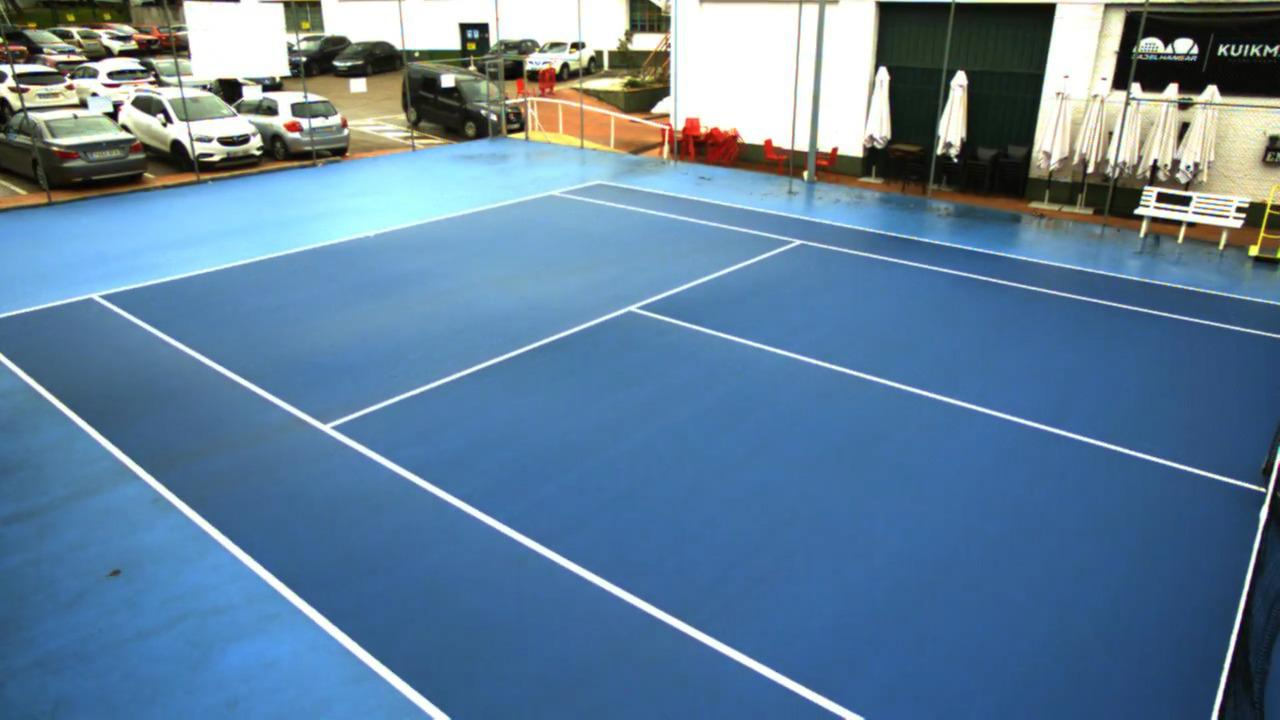cancha_tenis: (97, 191, 1280, 720)
point_f1: (84, 282, 112, 312)
point_f2: (546, 184, 571, 205)
point_fc1: (363, 230, 379, 242)
point_i1: (312, 414, 349, 446)
point_i2: (780, 231, 809, 251)
point_ic1: (619, 298, 654, 321)
